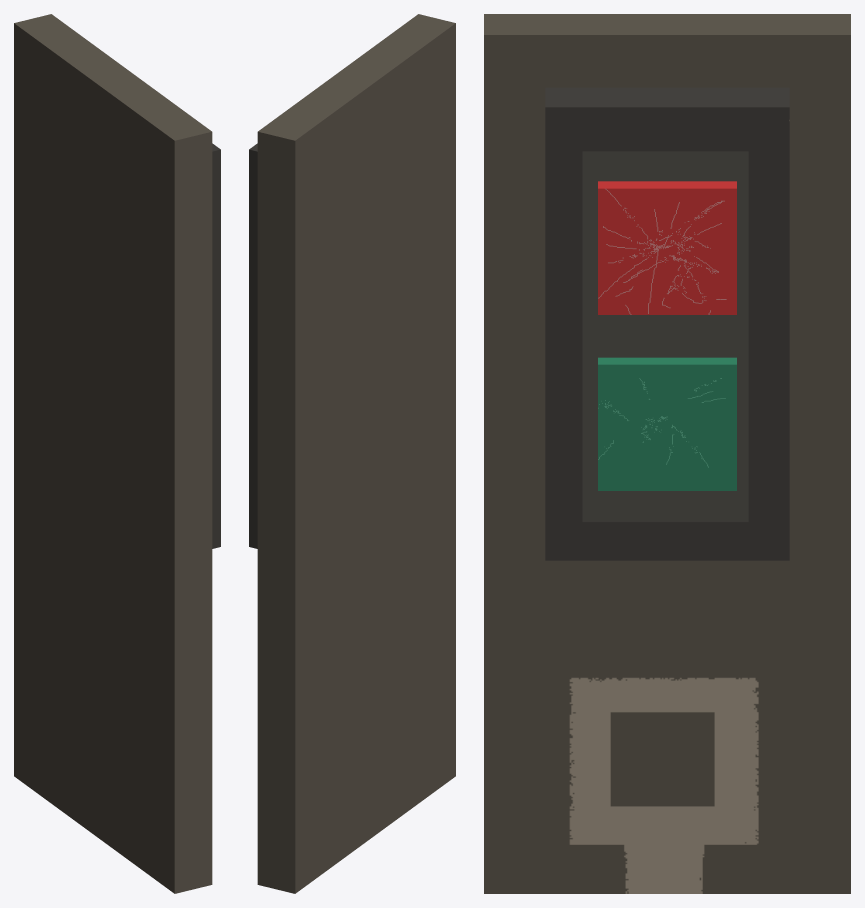
Rendered from button.obj.
3 renders of one model, left to right at view 1: azimuth 30°, elevation 25°; view 2: azimuth 150°, elevation 25°; view 3: azimuth 270°, elevation 25°, orthographic. The views are drawn at different scales.
Visible parts, largest first — view 1: Cube, Cube.001; view 2: Cube, Cube.001; view 3: Cube, Cube.001, Cube.002, Cube.003.
Boxes of the visible parts, <box> form: Cube: <box>14,14,212,893</box>; Cube.001: <box>212,143,220,548</box>; Cube: <box>257,14,455,893</box>; Cube.001: <box>249,143,257,548</box>; Cube: <box>484,14,850,893</box>; Cube.001: <box>545,87,789,560</box>; Cube.002: <box>598,357,736,490</box>; Cube.003: <box>598,181,736,314</box>.
Bounding box in the file's own units: 0.2389 × 2 × 0.7738.
4 materials, 4 textured.
